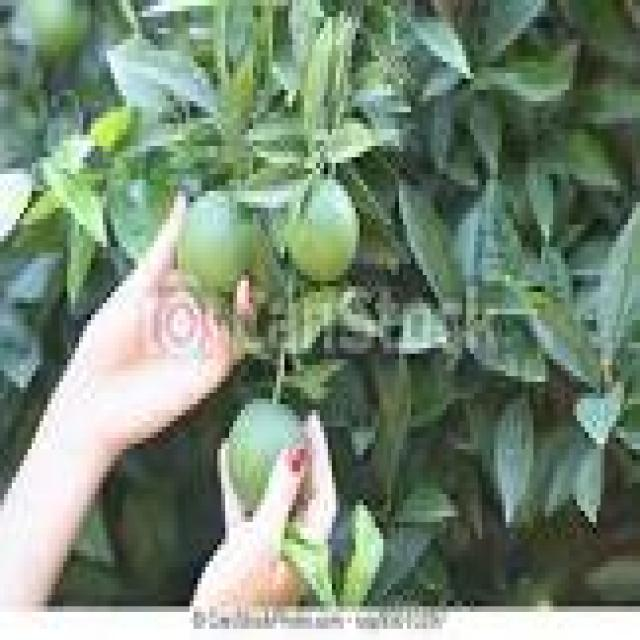orange: (284, 174, 356, 281), (178, 191, 253, 292), (229, 399, 300, 505)
